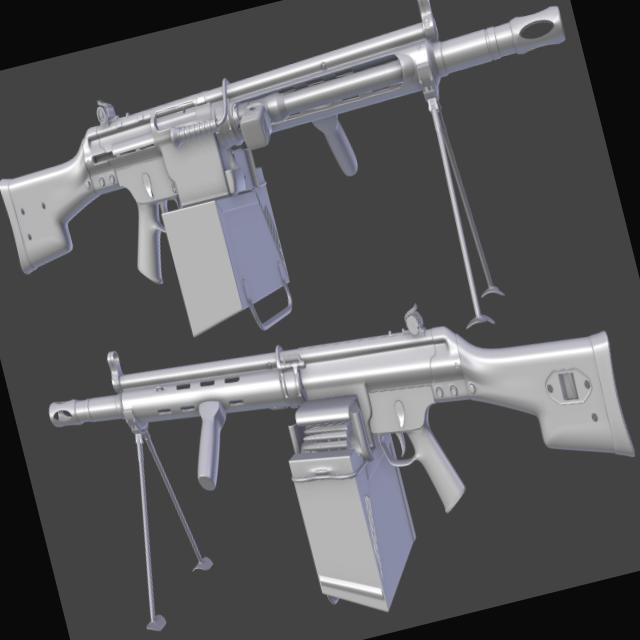long weapon: (30, 232, 639, 639), (0, 0, 598, 327)
